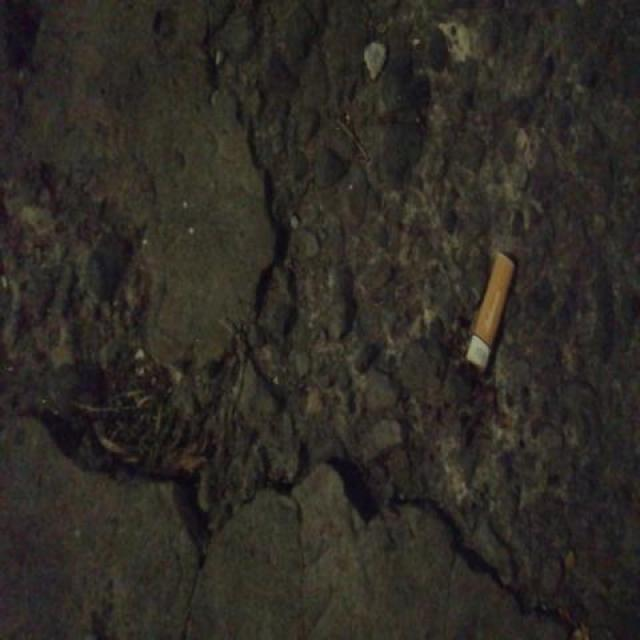non-organic waste: (463, 246, 517, 378)
